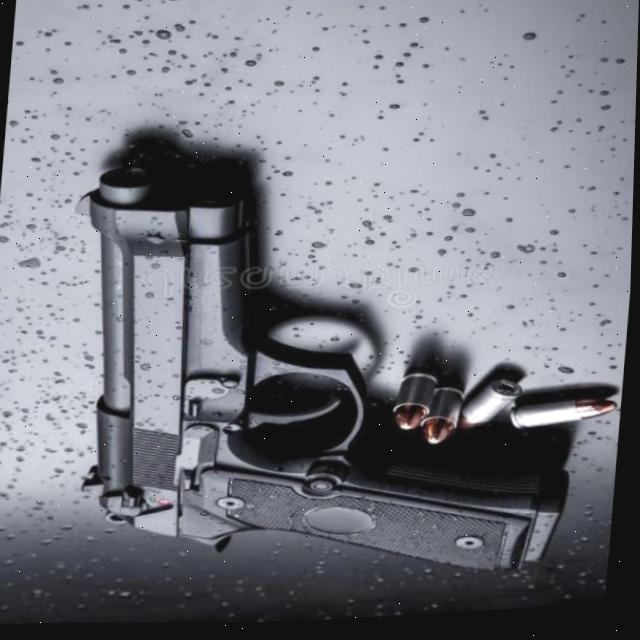gun: (55, 147, 603, 606)
